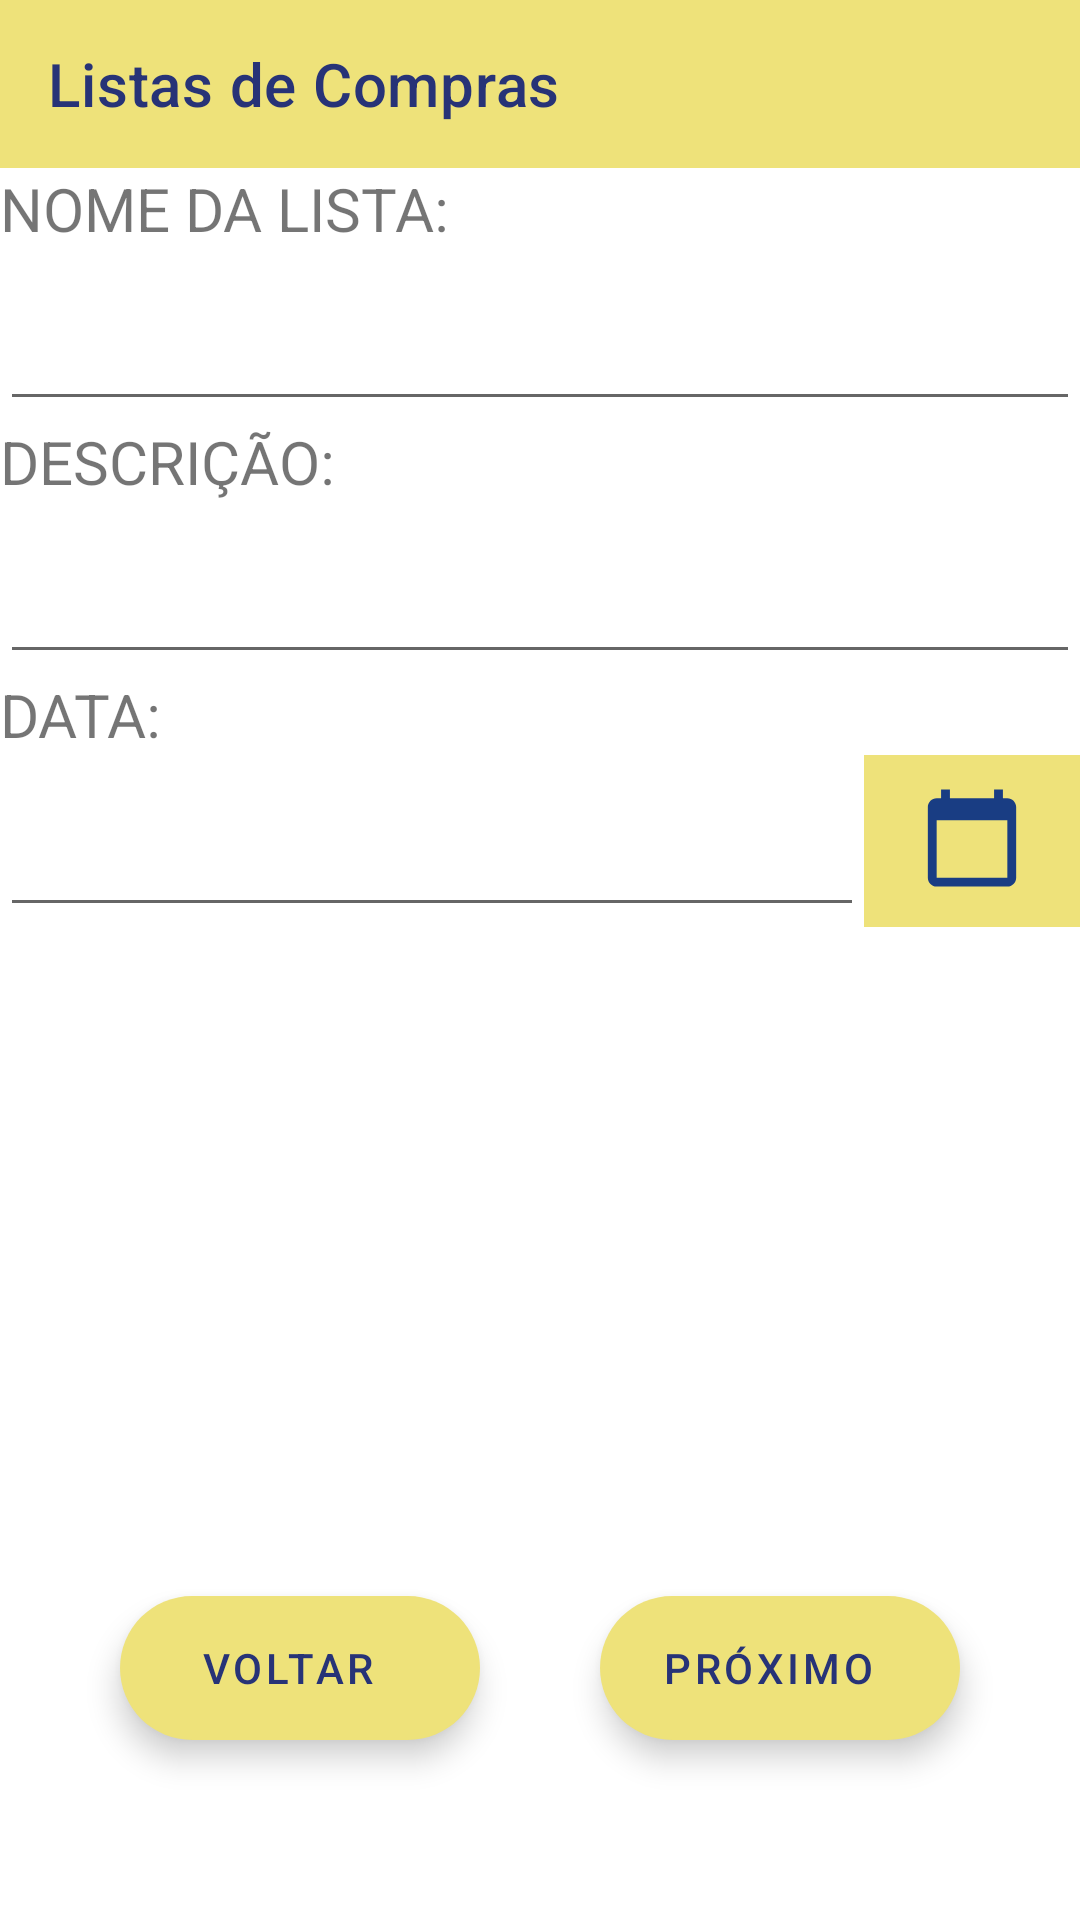

Icons on this 1080x1920 Android screen, each with the point to tap as (x,y):
Selecione uma data: (972,841)
